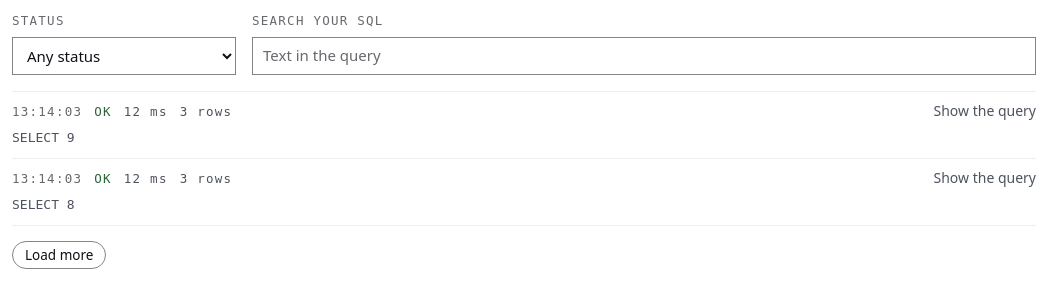
Scenario: my queries › filters by status, under the caller's own route
Select "Error" in the dropdown labelled "Status". click: (124, 56)
box: [12,37,236,75]
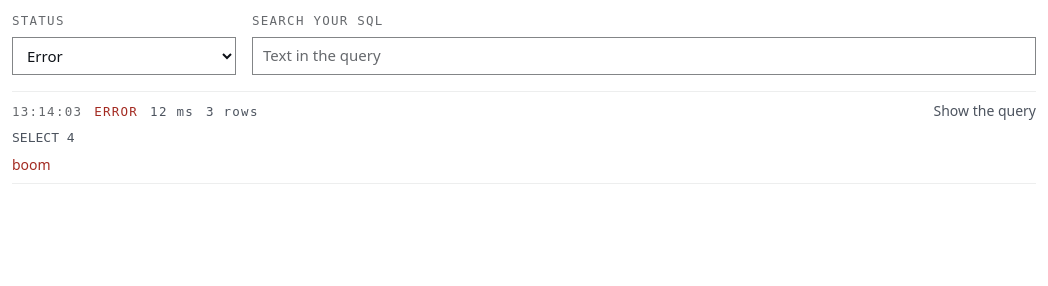
Result: the text "boom" is shown at [12,154,51,174]
